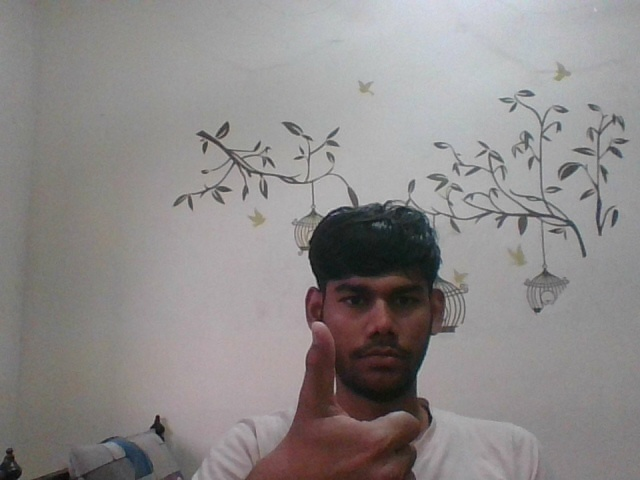Yes: (258, 298, 434, 478)
